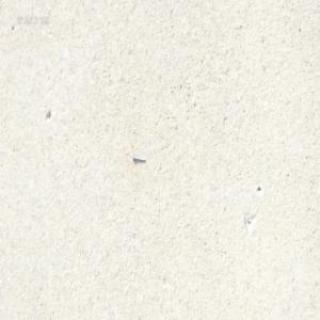Nailtrack_idkeyframe: (131, 152, 144, 161)
